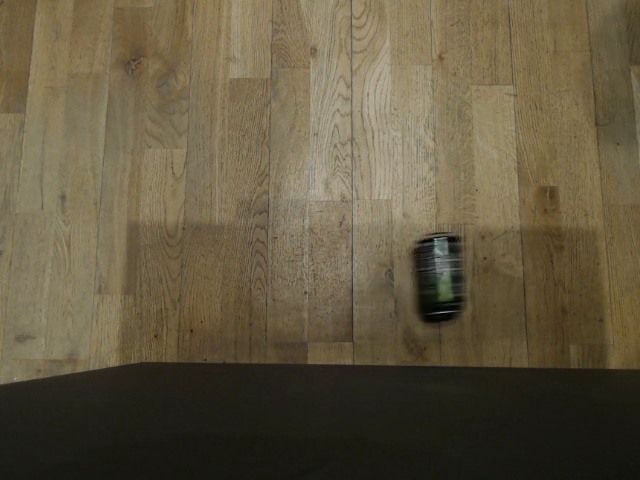beer: (413, 232, 471, 322)
